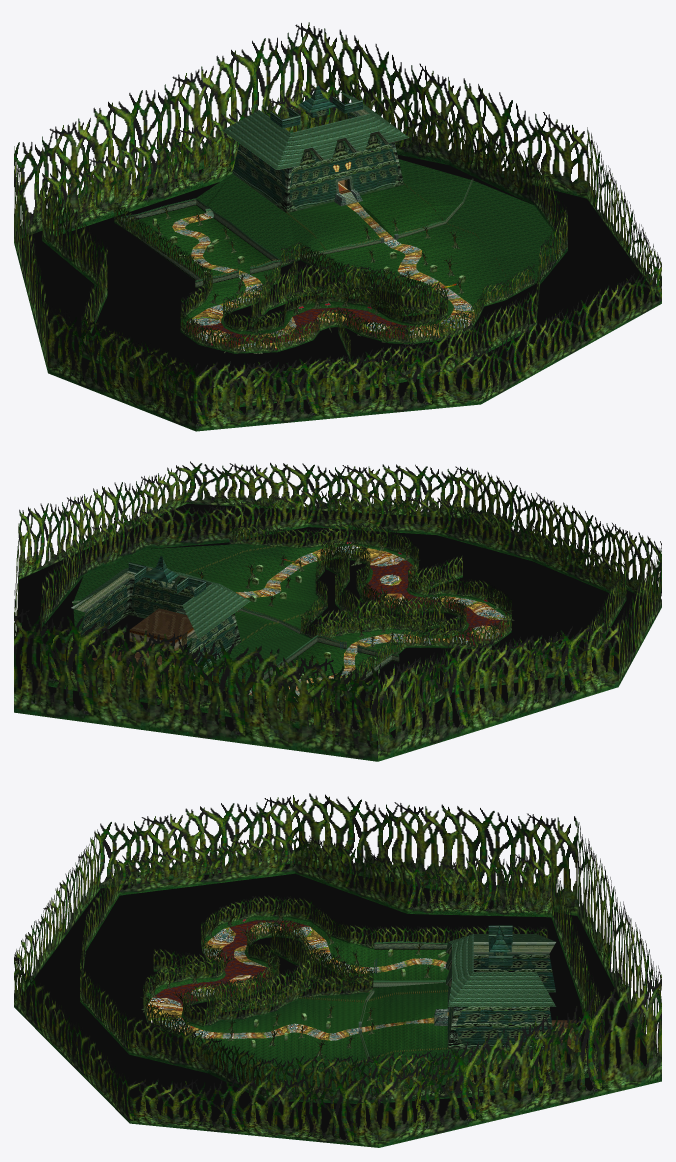
Rendered from mansion_course-mansion_course.glb.
3 renders of one model, top to bottom at view 1: azimuth 30°, elevation 25°; view 2: azimuth 150°, elevation 25°; view 3: azimuth 270°, elevation 25°, orthographic. The views are drawn at different scales.
Parts seen in each view (by area): view 1: mansion_course; view 2: mansion_course; view 3: mansion_course.
Part boxes in pixels (bbox=[...]): mansion_course: bbox=[14, 22, 661, 431]; mansion_course: bbox=[14, 461, 661, 761]; mansion_course: bbox=[14, 793, 661, 1147].
Size of the model in its own units: 619 by 123 by 598.
Materials: 28 (28 with a texture image).
